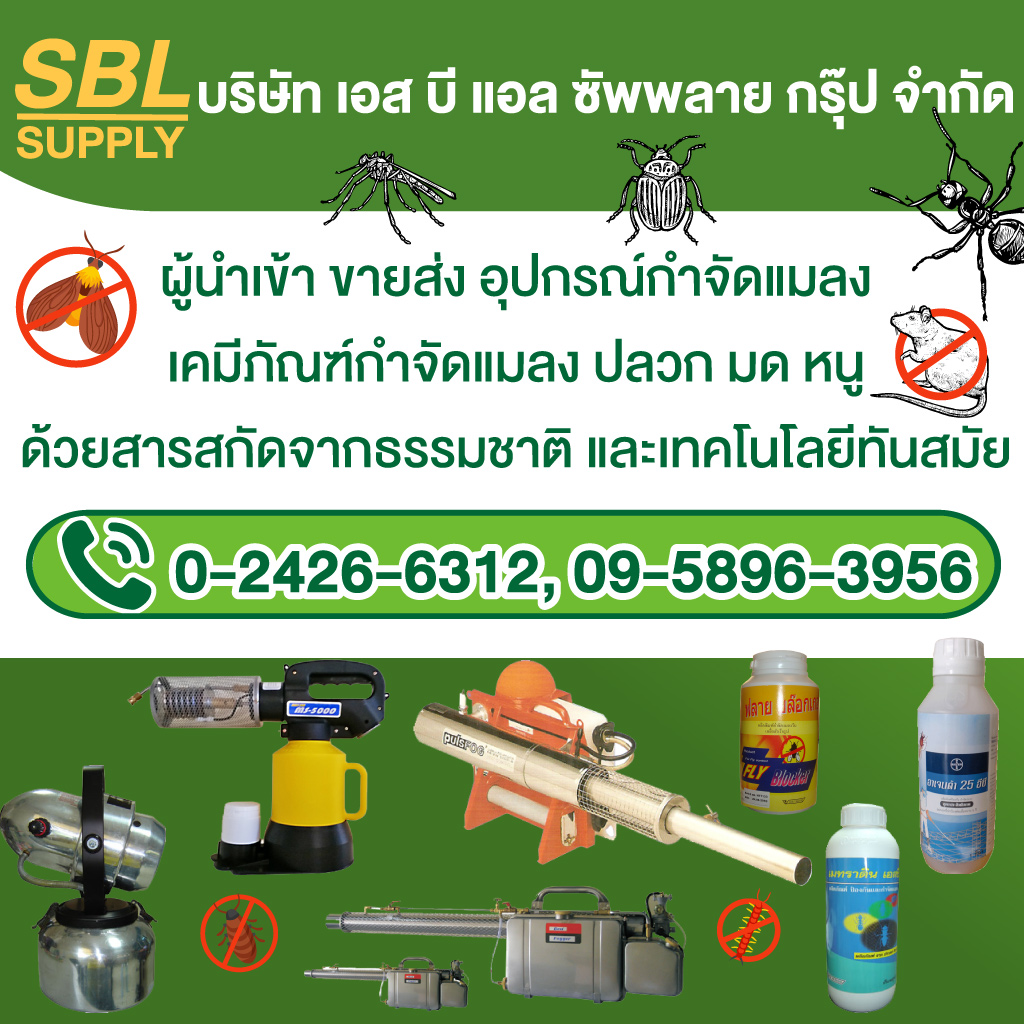Insecticide: (914, 630, 1006, 883), (817, 795, 907, 1018), (736, 648, 825, 812)
